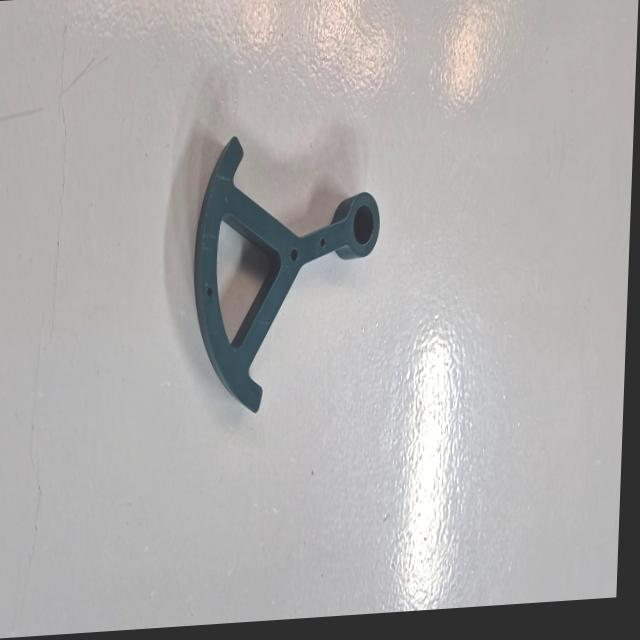haptic: (187, 123, 385, 419)
